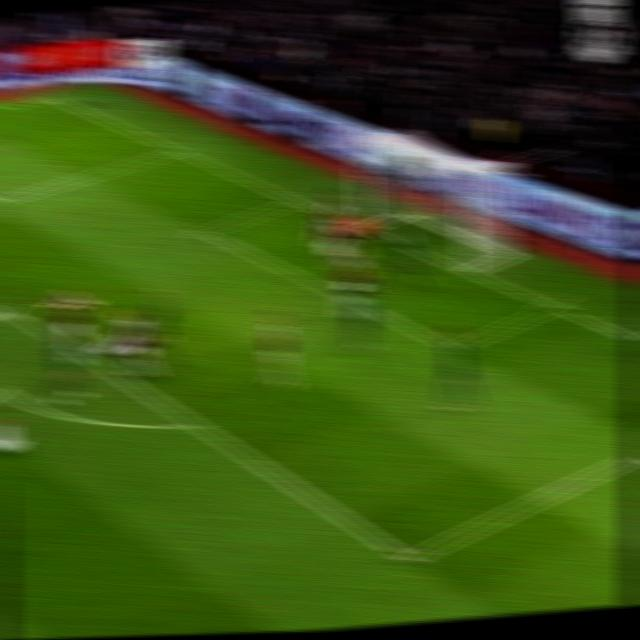bigarea_bottom_inner: (388, 536, 430, 580)
bigarea_top_outter: (163, 140, 192, 160)
bottom_arc_area_intersection: (178, 409, 213, 438)
corner: (30, 87, 66, 105)
smallarea_bottom_outter: (535, 292, 572, 321)
smallarea_top_inner: (188, 217, 222, 244)
smallarea_top_outter: (280, 188, 312, 211)
top_arc_area_intersection: (0, 296, 23, 322)
